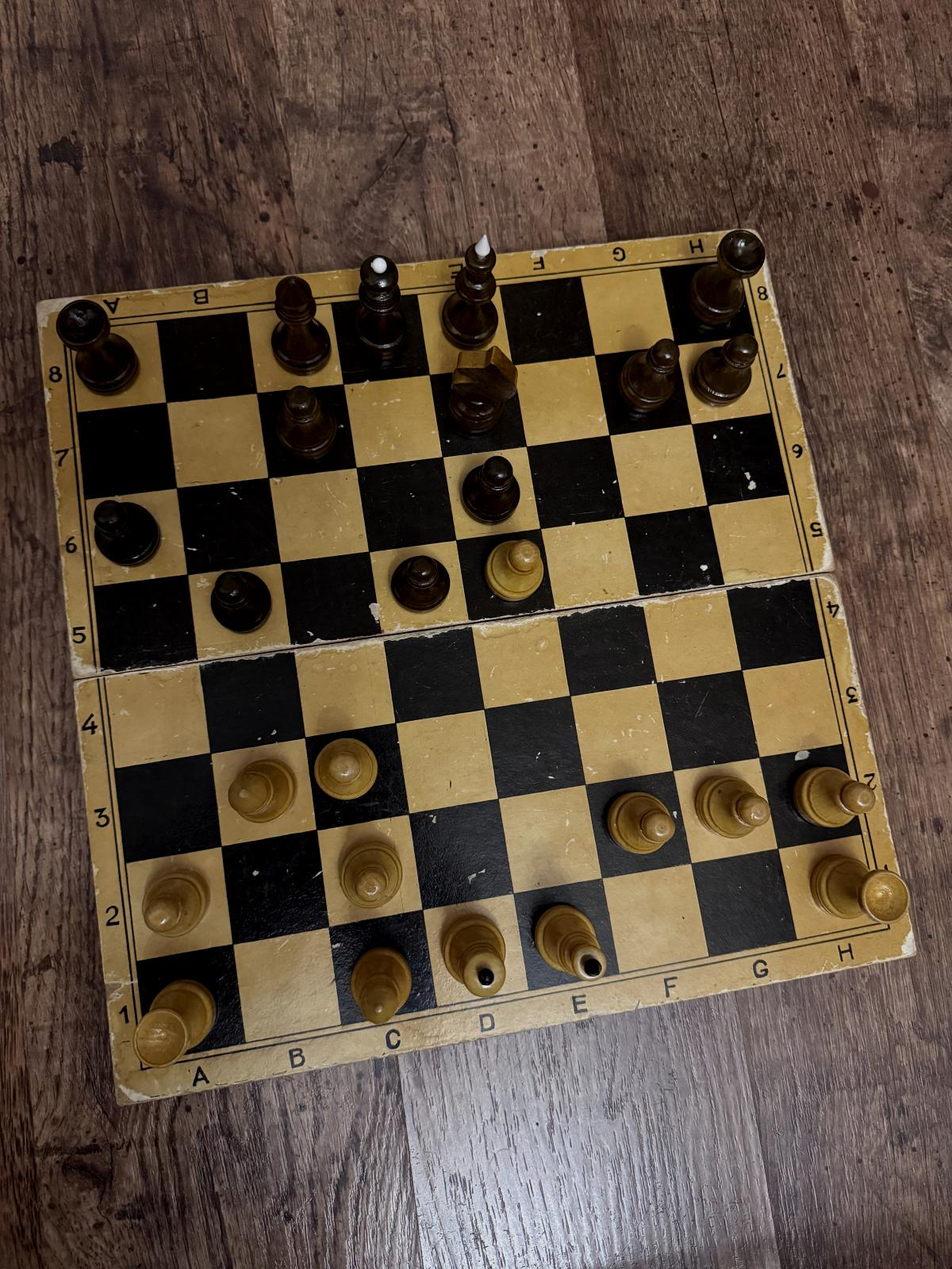Chess-Board: (69, 260, 882, 1060)
